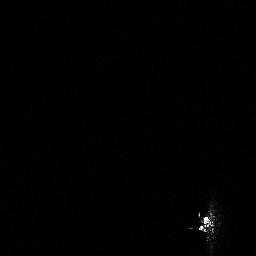ship: (191, 199, 225, 250)
